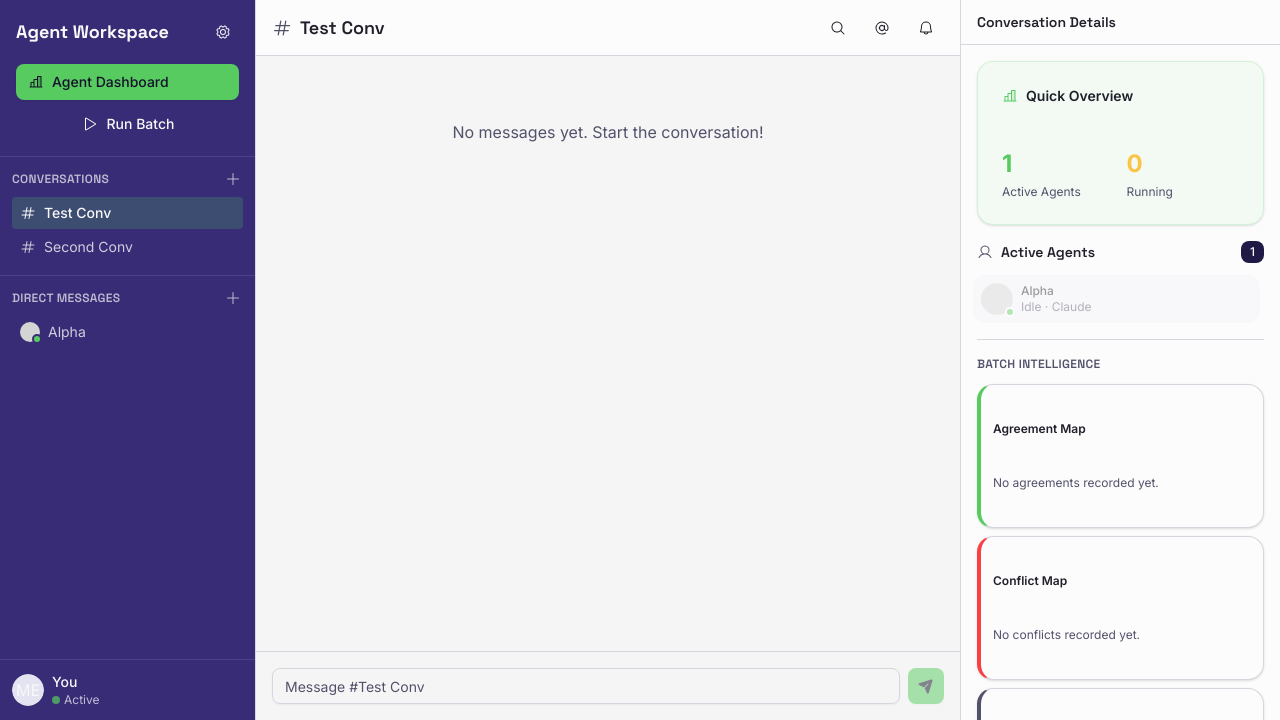
Test: MainApp › opens create conversation dialog
Click the button without text next to "Conversations".
click(233, 179)  # box [223, 169, 243, 189]
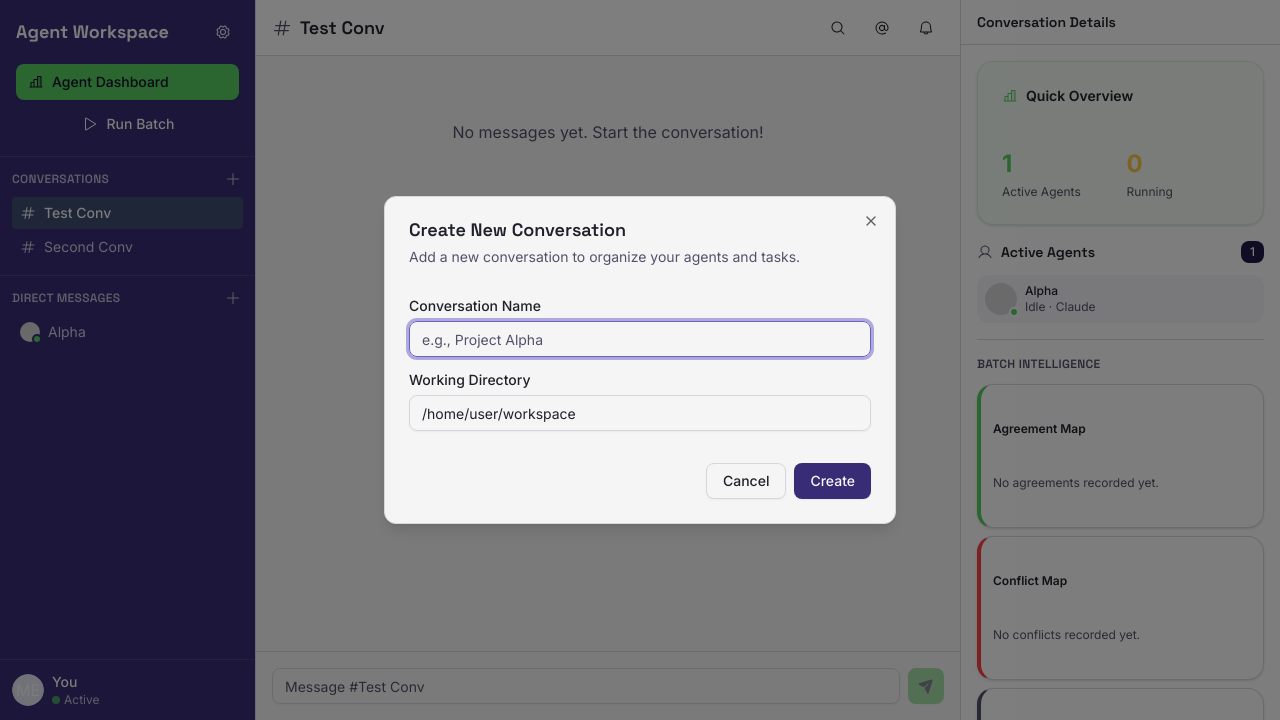
Expected: the heading "Create New Conversation" is shown, [409, 218, 626, 241]
